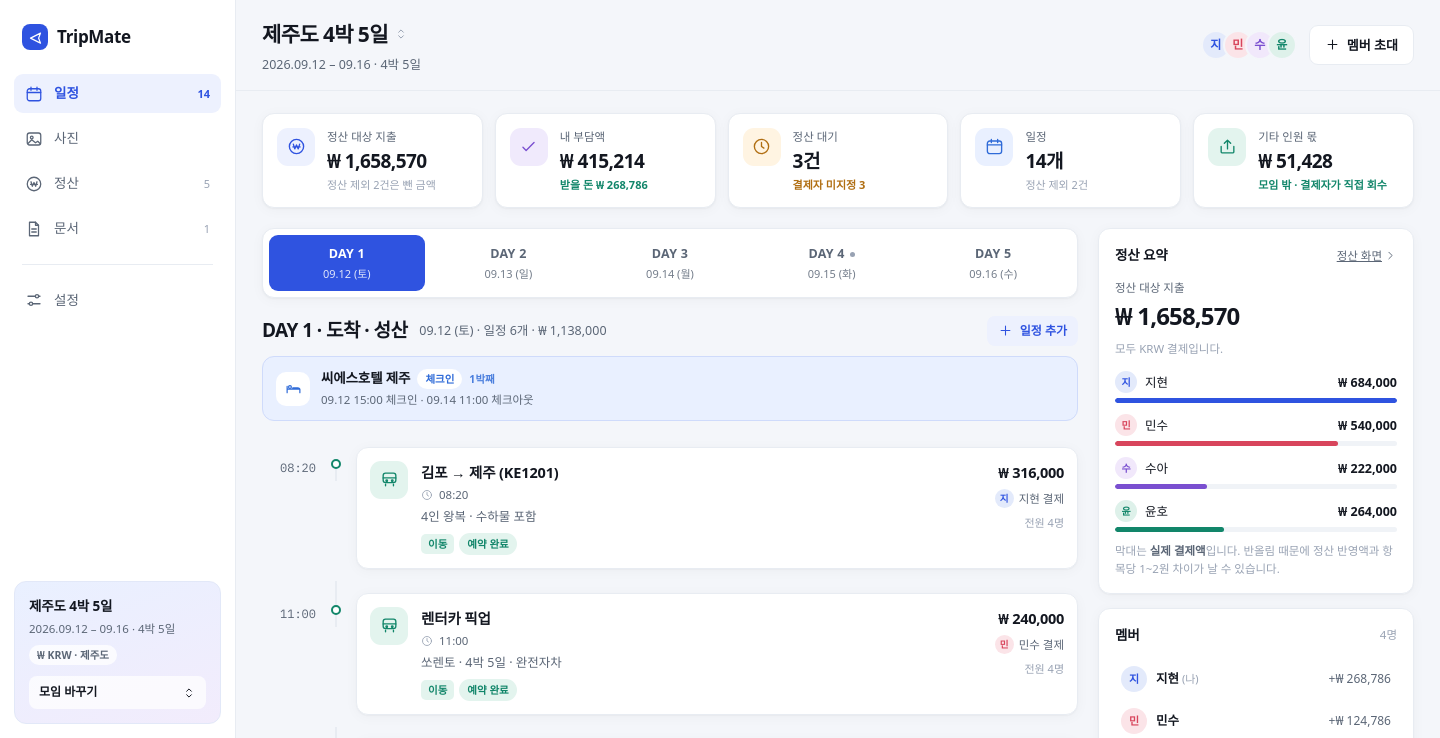
일정 화면 › 정산 제외 항목이 금액 자리에 '정산 제외'로 남는다
The image size is (1440, 738).
Click the button with class "daytab" showing "DAY 2 09.13 (일)" at (508, 263), box [431,235,586,291]
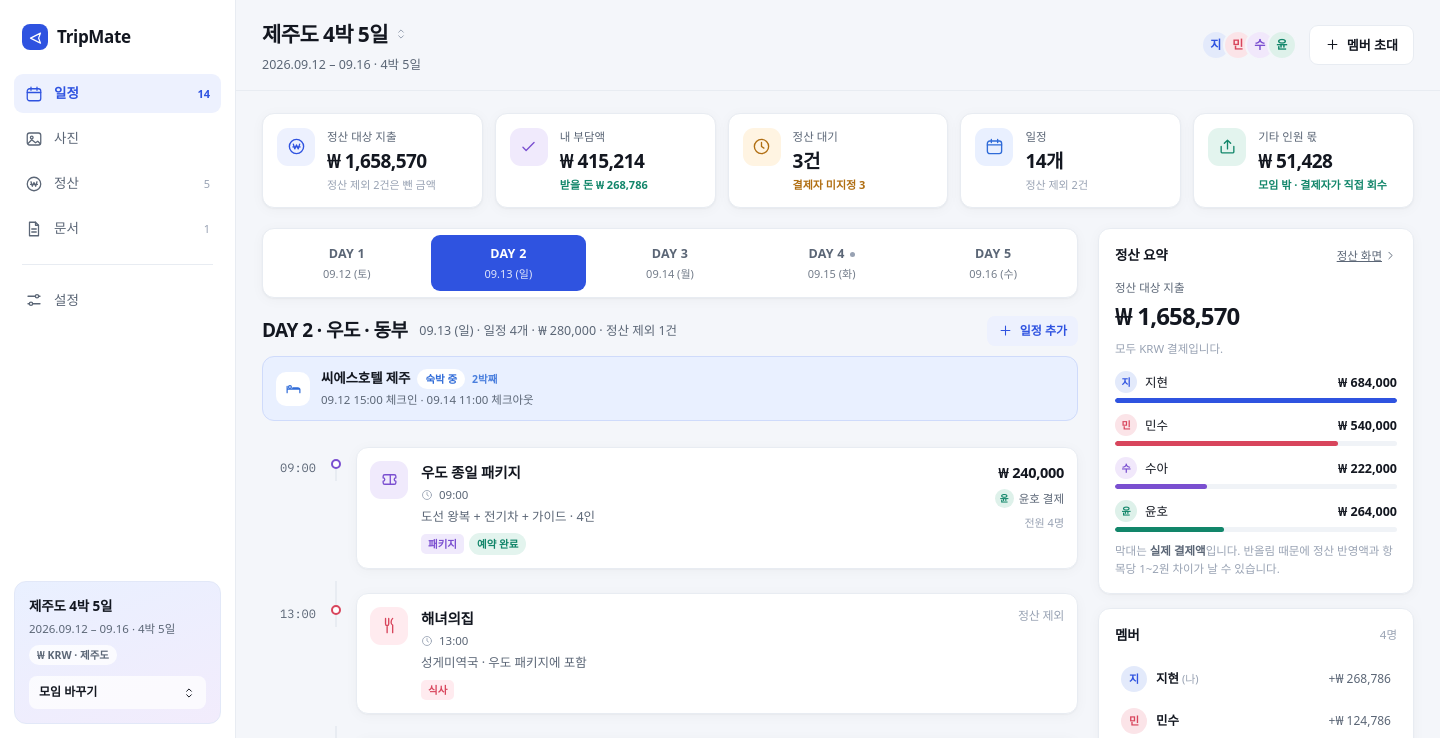
Expected: the text "정산 제외 2건" is shown, [327,177,436,192]
Result: the heading "해녀의집" is shown at [421,608,474,628]
Result: the text "정산 제외" is shown at [1018,607,1064,626]
